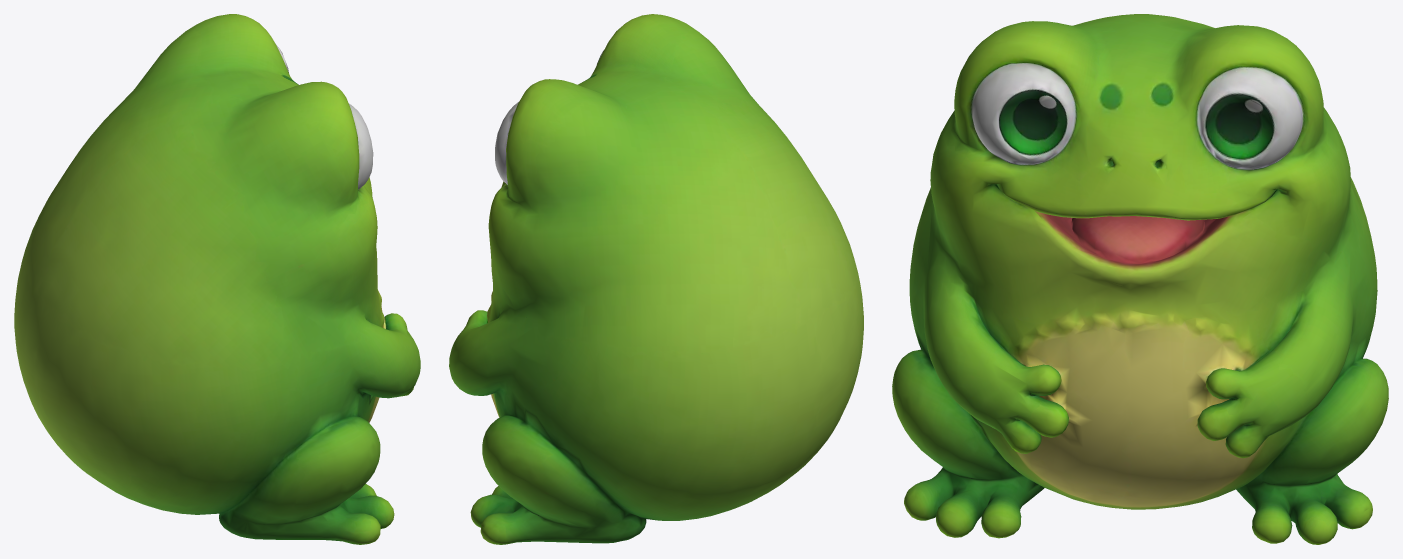
The model's file is frog.glb.
3 views of the same model, side by side, from view 1: azimuth 30°, elevation 25°; view 2: azimuth 150°, elevation 25°; view 3: azimuth 270°, elevation 25° (orthographic). The views are drawn at different scales.
Visible parts, largest first — view 1: tripo_node_bdc3af16-bdcf-4e12-9402-d5b6a570c1dd; view 2: tripo_node_bdc3af16-bdcf-4e12-9402-d5b6a570c1dd; view 3: tripo_node_bdc3af16-bdcf-4e12-9402-d5b6a570c1dd.
Boxes of the visible parts, <box> form: tripo_node_bdc3af16-bdcf-4e12-9402-d5b6a570c1dd: <box>14,14,420,544</box>; tripo_node_bdc3af16-bdcf-4e12-9402-d5b6a570c1dd: <box>449,14,863,544</box>; tripo_node_bdc3af16-bdcf-4e12-9402-d5b6a570c1dd: <box>892,14,1388,544</box>.
Size of the model in its own units: 0.1651 by 0.2 by 0.1847.
Materials: 1 (1 with a texture image).
